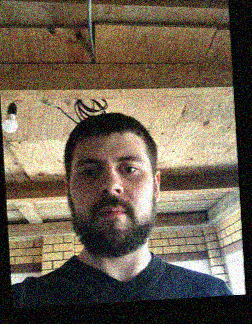without_mask: (70, 147, 151, 256)
